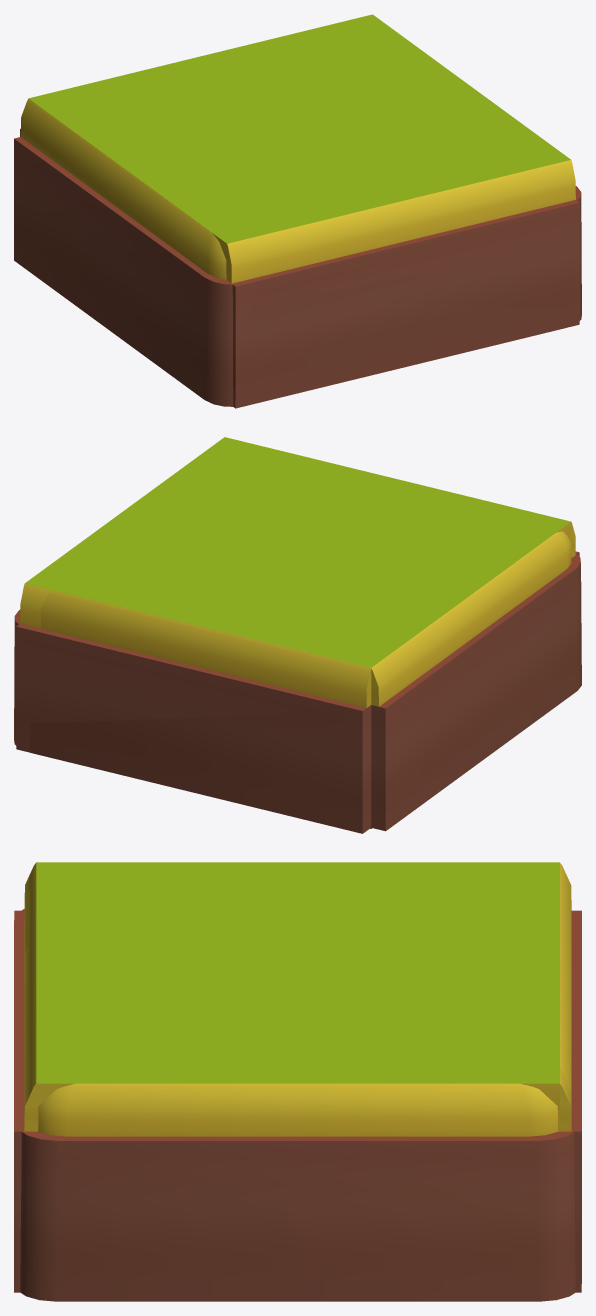
File: Land_v2.FBX
3 views of the same model, one above another, from view 1: azimuth 30°, elevation 25°; view 2: azimuth 150°, elevation 25°; view 3: azimuth 270°, elevation 25° (orthographic). The views are drawn at different scales.
Visible parts, largest first — view 1: Land_2_smooth_edge, Land_3_smooth_edge, Land_1_smooth_edge; view 2: Land_2_smooth_edge, Land_3_smooth_edge, Land_1.5_smooth, Land_1_smooth_edge; view 3: Land_3_smooth_edge, Land_2_smooth_edge, Land_1_smooth_edge, Land_1.5_smooth.
Part boxes in pixels (bbox=[...]): Land_2_smooth_edge: bbox=[14, 14, 579, 406]; Land_3_smooth_edge: bbox=[227, 186, 581, 408]; Land_1_smooth_edge: bbox=[31, 17, 579, 407]; Land_2_smooth_edge: bbox=[26, 437, 581, 831]; Land_3_smooth_edge: bbox=[14, 590, 370, 833]; Land_1.5_smooth: bbox=[16, 583, 371, 833]; Land_1_smooth_edge: bbox=[25, 479, 579, 665]; Land_3_smooth_edge: bbox=[20, 862, 581, 1301]; Land_2_smooth_edge: bbox=[14, 862, 559, 1292]; Land_1_smooth_edge: bbox=[14, 862, 551, 1131]; Land_1.5_smooth: bbox=[36, 864, 581, 1292].
Size of the model in its own units: 6.44 by 2.64 by 6.44.
